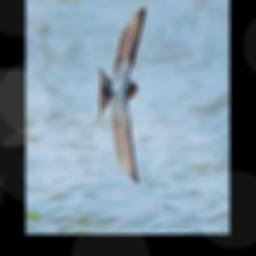Swallow: (92, 6, 145, 184)
